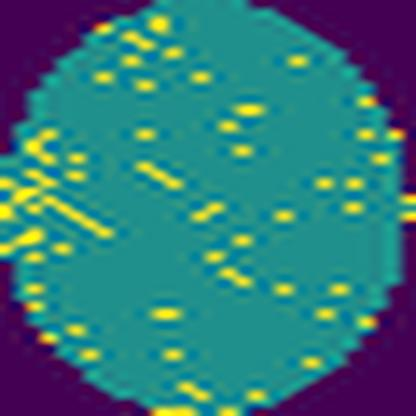Scratch: (24, 193, 117, 243), (134, 154, 188, 194)
